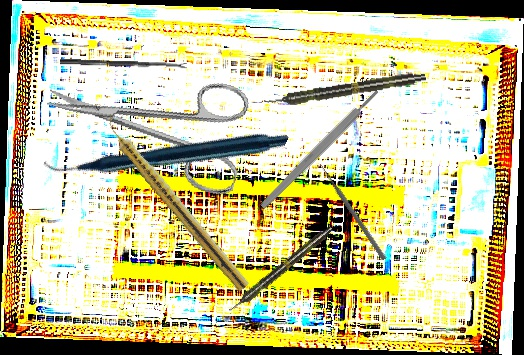Handpiece: (42, 39, 290, 263), (98, 112, 254, 294), (226, 224, 335, 315), (263, 69, 427, 110)
Iris Scissors: (35, 40, 259, 199)
Pusher: (317, 161, 388, 262)
Scalpel Handle: (258, 87, 382, 211)
Surgical Spoon: (59, 58, 188, 70)
